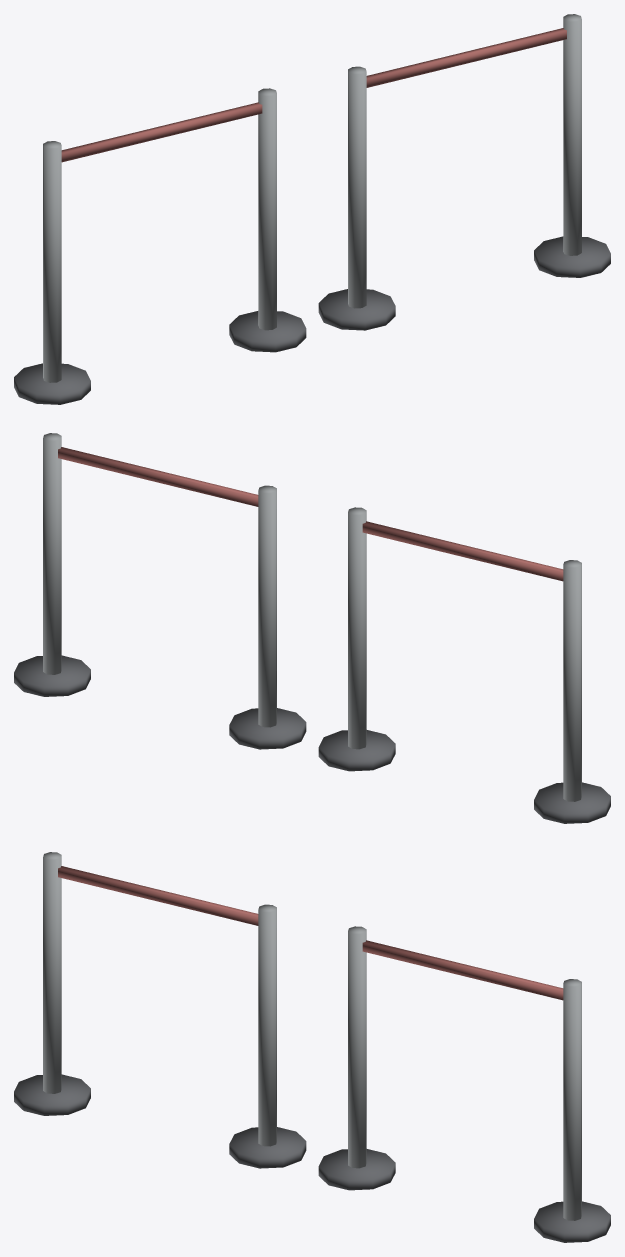
Rendered from queue_stanchion__cluster.glb.
3 views of the same model, one above another, from view 1: azimuth 30°, elevation 25°; view 2: azimuth 150°, elevation 25°; view 3: azimuth 330°, elevation 25° (orthographic).
Parts seen in each view (by area): view 1: world; view 2: world; view 3: world.
Boxes of the visible parts, left/top/right/bottom form: world: left=14, top=14, right=610, bottom=404; world: left=14, top=433, right=610, bottom=823; world: left=14, top=852, right=610, bottom=1242.
Bounding box in the file's own units: 2.45 × 0.975 × 0.2663.
